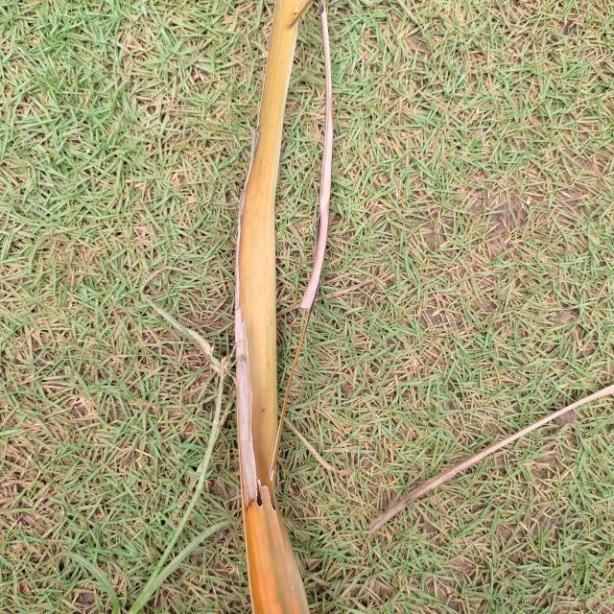Megnesium: (225, 0, 315, 614)
